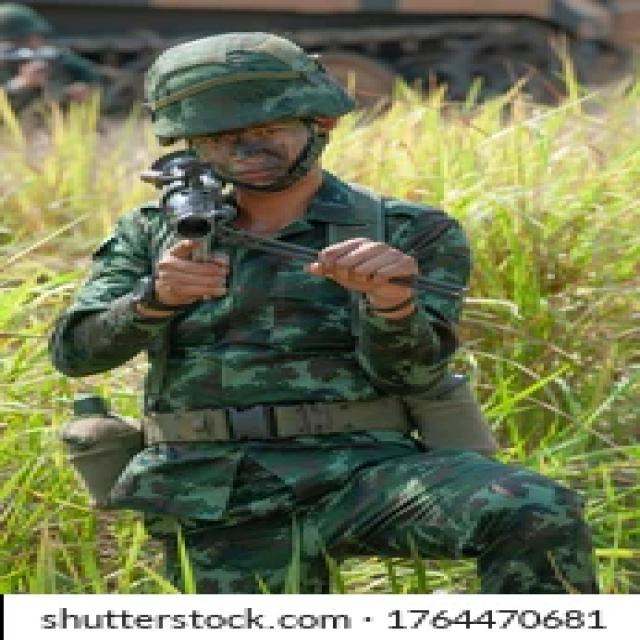soldier: (41, 22, 601, 594)
